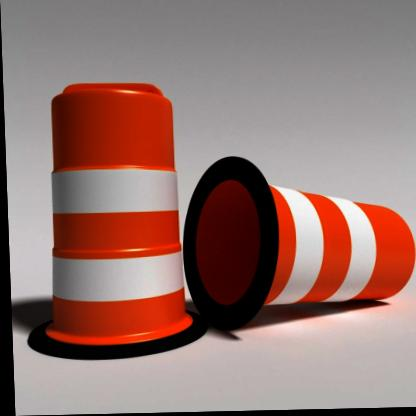obstacle: (25, 84, 194, 350), (183, 155, 416, 333)
